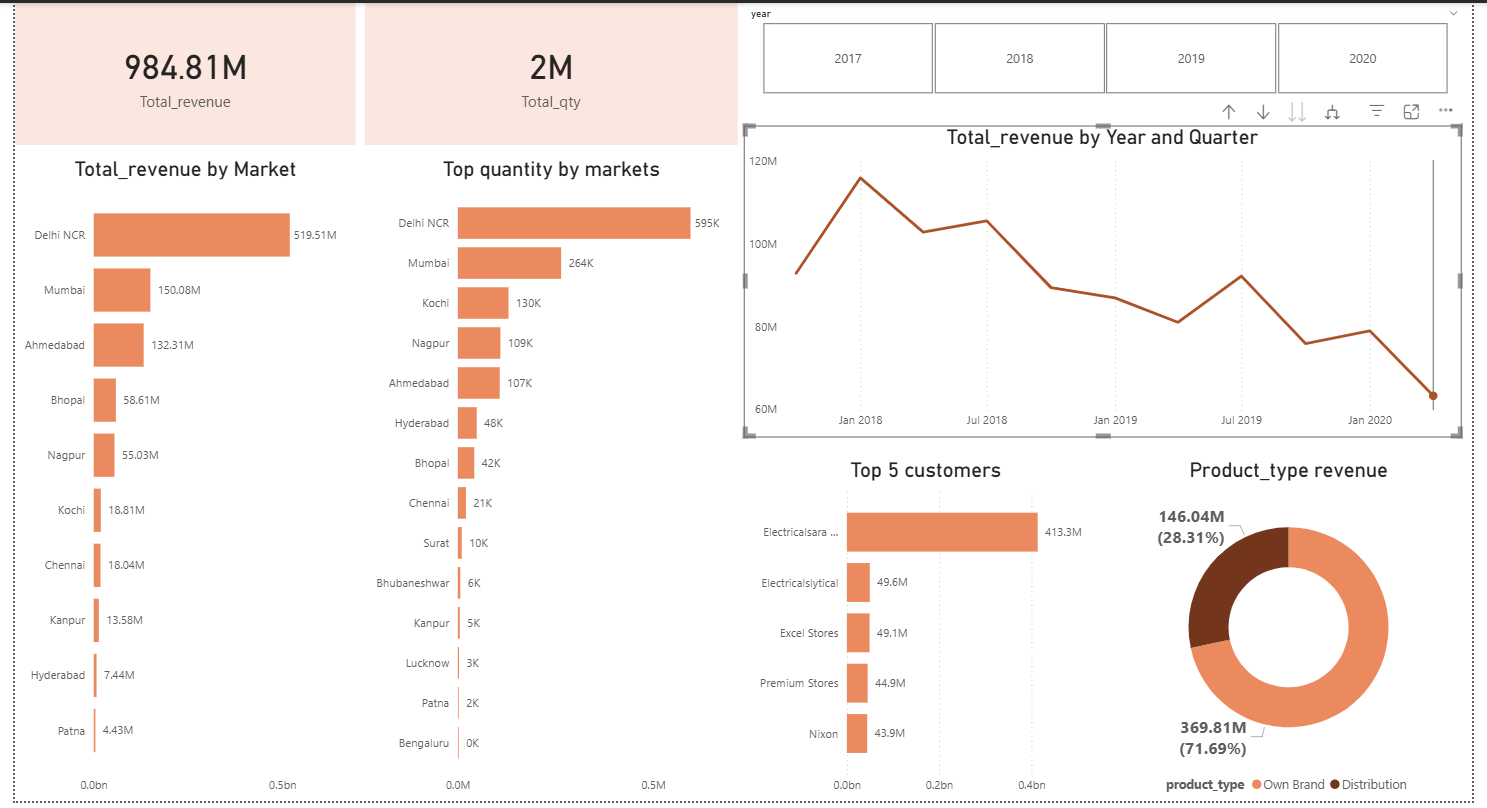

The dashboard page shown, as its layout file describes it:
{"tool":"powerbi","page":{"name":"Page 1","canvas":[1550,850],"ordinal":0},"visuals":[{"type":"card","fields":{"Values":["_Measure.Total_revenue"]},"box":[0,0,362.7,151.3],"z":0},{"type":"card","fields":{"Values":["_Measure.Total_qty"]},"box":[373,0,396.5,151.3],"z":1000},{"type":"clusteredBarChart","title":"Total_revenue by Market","fields":{"Y":["_Measure.Total_revenue"],"Category":["sales markets.markets_name"]},"box":[0,163,362.7,687.3],"z":2000},{"type":"clusteredBarChart","title":"Top quantity by markets","fields":{"Category":["sales markets.markets_name"],"Y":["_Measure.Total_qty"]},"box":[373,163,396.5,687.3],"z":3000},{"type":"clusteredBarChart","title":"Top 5 customers","fields":{"Category":["sales customers.custmer_name"],"Y":["_Measure.Total_revenue"]},"box":[775.8,484.4,387.2,366.1],"z":4000},{"type":"donutChart","title":"Product_type revenue","fields":{"Category":["sales products.product_type"],"Y":["_Measure.Total_revenue"]},"box":[1163.1,484.4,385.8,366.1],"z":5000},{"type":"lineChart","fields":{"Y":["_Measure.Total_revenue"],"Category":["sales date.cy_date.Variation.Date Hierarchy.Year","sales date.cy_date.Variation.Date Hierarchy.Quarter","sales date.cy_date.Variation.Date Hierarchy.Month","sales date.cy_date.Variation.Date Hierarchy.Day"]},"box":[775.8,131,763.2,332.3],"z":6000},{"type":"slicer","fields":{"Values":["sales date.year"]},"box":[770.2,0,778.7,102.8],"z":7000}]}

Visuals, with their boxes in screenshot pixels (x1, y1, x2, y2), scaled from the page's 1550x850 canvas onto the 1487x808 screenshot:
card - _Measure.Total_revenue: bbox(0, 0, 348, 144)
card - _Measure.Total_qty: bbox(358, 0, 738, 144)
"Total_revenue by Market" clusteredBarChart: bbox(0, 155, 348, 807)
"Top quantity by markets" clusteredBarChart: bbox(358, 155, 738, 807)
"Top 5 customers" clusteredBarChart: bbox(744, 460, 1116, 807)
"Product_type revenue" donutChart: bbox(1116, 460, 1486, 807)
lineChart - _Measure.Total_revenue x sales date.cy_date.Variation.Date Hierarchy.Year: bbox(744, 125, 1476, 440)
slicer - sales date.year: bbox(739, 0, 1486, 98)
